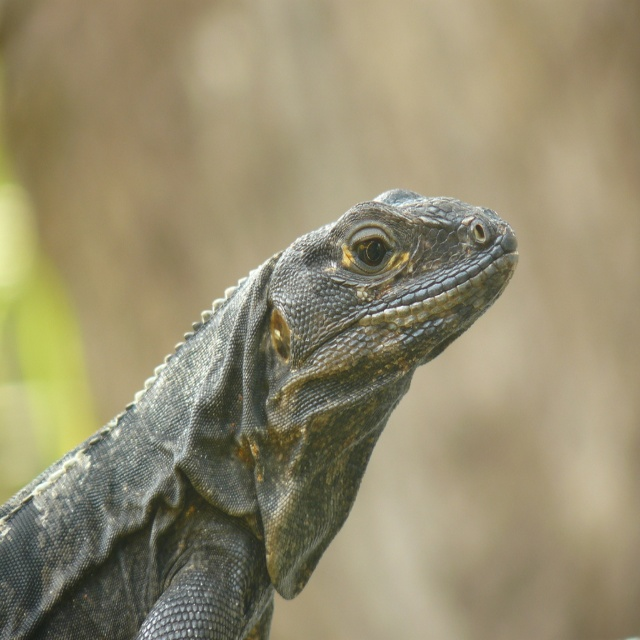Lizard: (5, 169, 532, 639)
